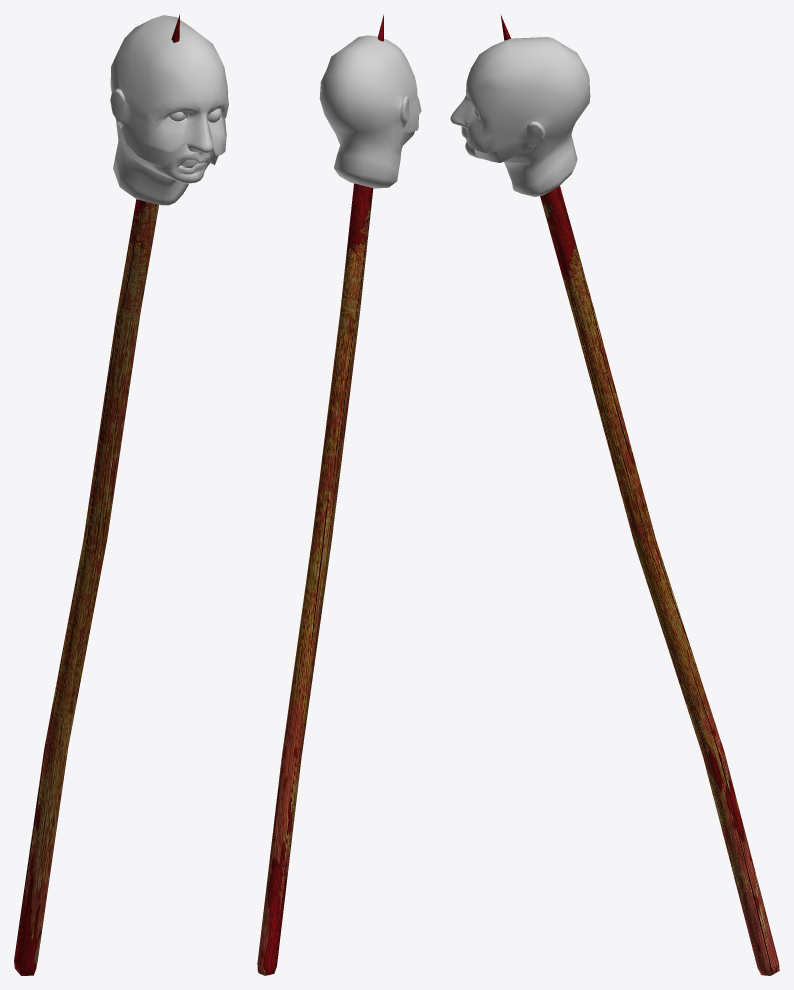
Rendered from severed_exp_06.fbx.
3 renders of one model, left to right at view 1: azimuth 30°, elevation 25°; view 2: azimuth 150°, elevation 25°; view 3: azimuth 270°, elevation 25°, orthographic. The views are drawn at different scales.
Parts seen in each view (by area): view 1: severed_exp_06; view 2: severed_exp_06; view 3: severed_exp_06.
Part boxes in pixels (x1,y1,x2,y2): severed_exp_06: [14, 14, 228, 975]; severed_exp_06: [257, 14, 421, 975]; severed_exp_06: [450, 14, 779, 975].
Size of the model in its own units: 0.2168 by 2.18 by 0.6743.
